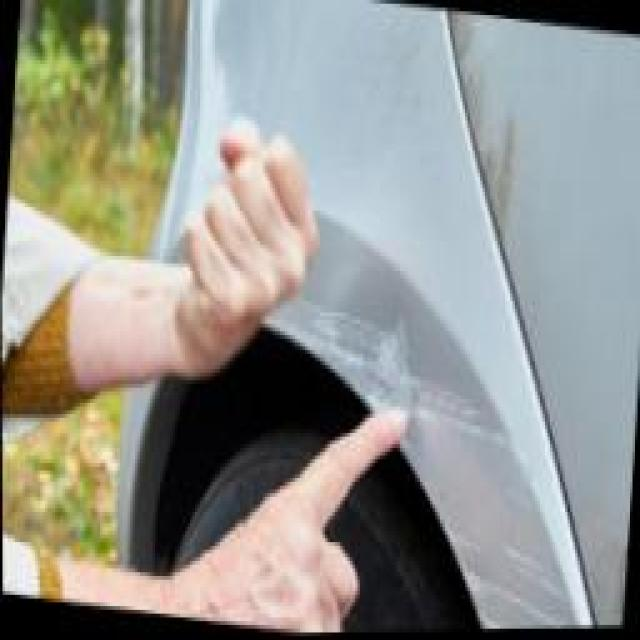Fender: (248, 200, 574, 634)
